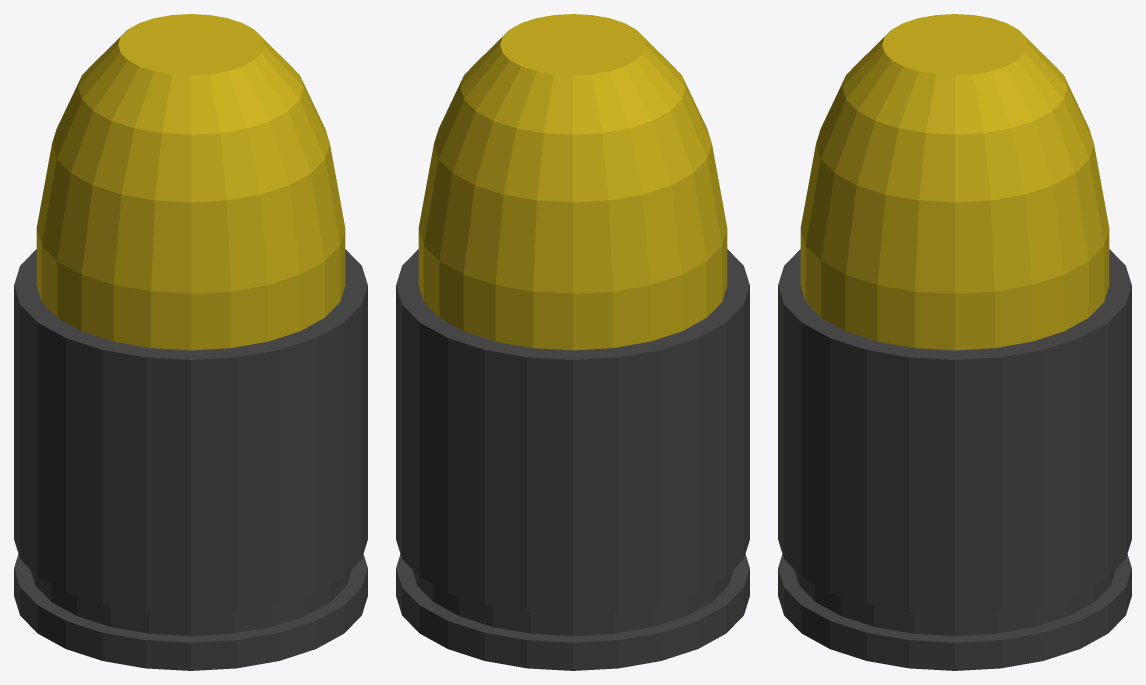
Rendered from ammo_machinegunlauncher.glb.
The picture shows the model from 3 angles, left to right: view 1: azimuth 30°, elevation 25°; view 2: azimuth 150°, elevation 25°; view 3: azimuth 270°, elevation 25°; orthographic projection.
Visible parts, largest first — view 1: Mesh2 Group3 Group1 Model, Mesh1 Group2 Group1 Model; view 2: Mesh2 Group3 Group1 Model, Mesh1 Group2 Group1 Model; view 3: Mesh2 Group3 Group1 Model, Mesh1 Group2 Group1 Model.
Boxes of the visible parts, bbox=[...] form: Mesh2 Group3 Group1 Model: bbox=[14, 249, 367, 670]; Mesh1 Group2 Group1 Model: bbox=[36, 14, 345, 350]; Mesh2 Group3 Group1 Model: bbox=[396, 249, 749, 670]; Mesh1 Group2 Group1 Model: bbox=[418, 14, 727, 350]; Mesh2 Group3 Group1 Model: bbox=[778, 249, 1131, 670]; Mesh1 Group2 Group1 Model: bbox=[800, 14, 1109, 350].
Bounding box in the file's own units: 0.0068 × 0.0117 × 0.0068.
